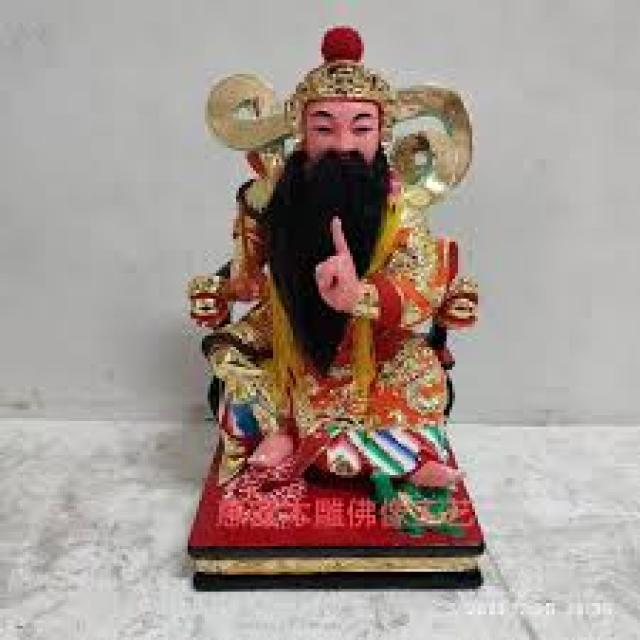Xuan wu: (184, 23, 471, 519)
